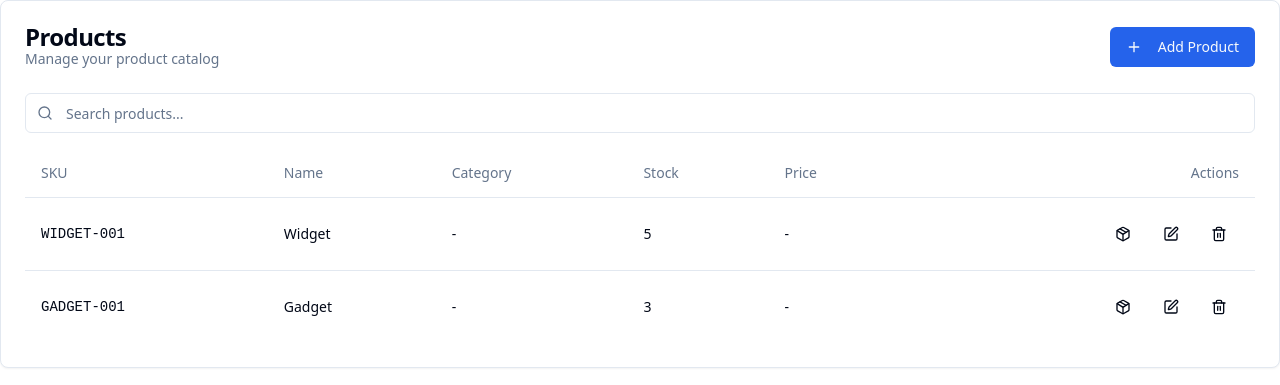
Test: ProductList › should filter products by search
Type "widget" into the field with placeholder "Search products..." at (640, 113), box [25, 93, 1255, 133]
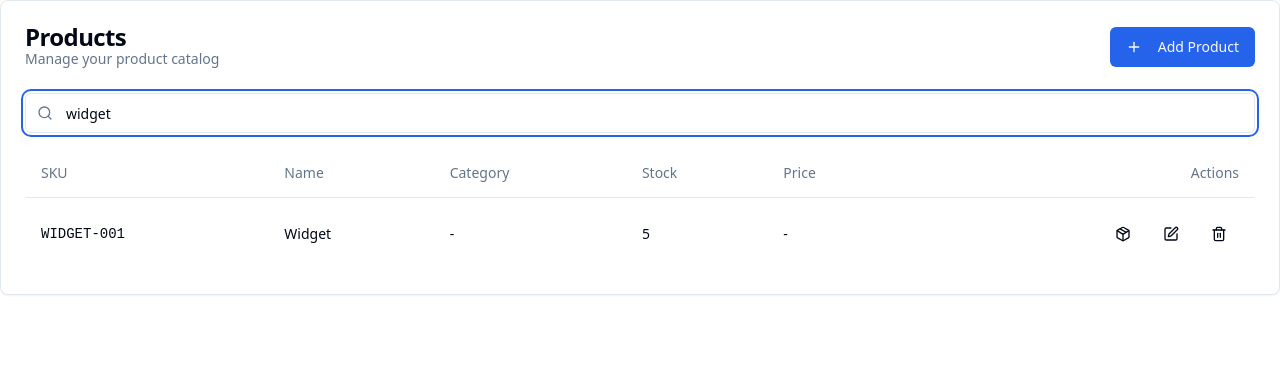
Check: the text "Widget" is shown, box [268, 197, 434, 270]
Check: the text "GADGET" is gone
